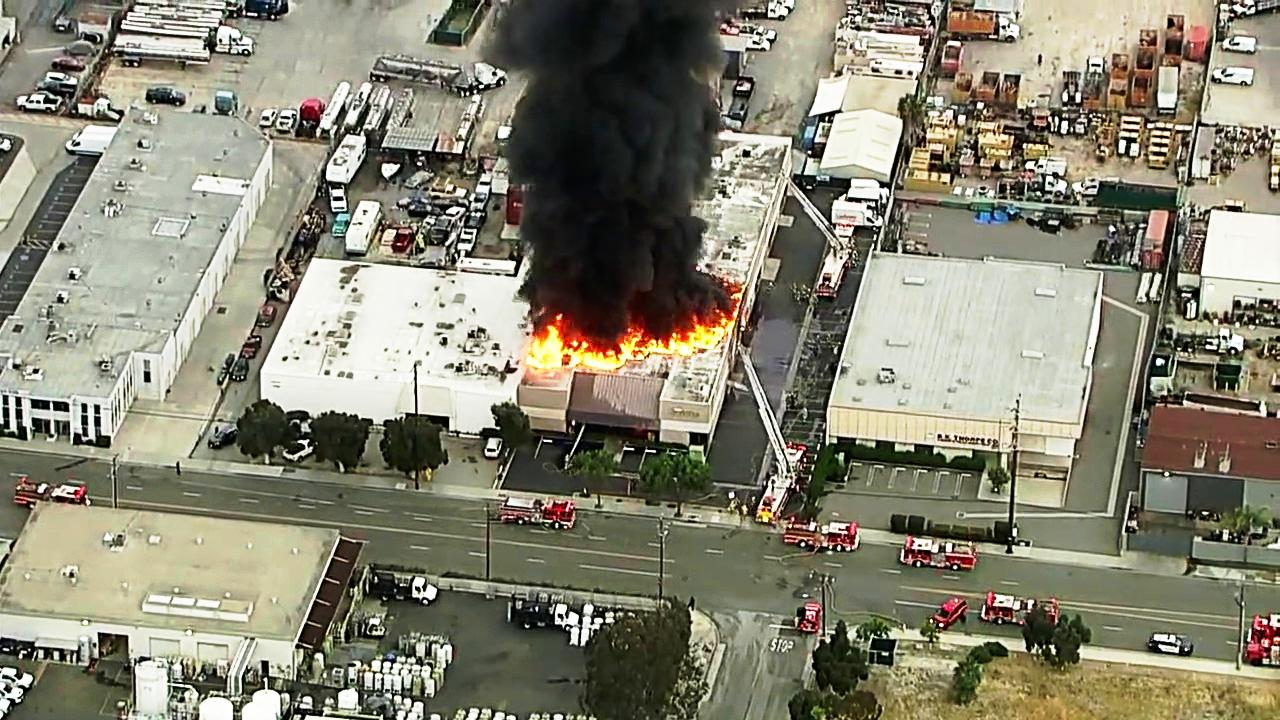fire: (603, 314, 745, 363), (515, 314, 622, 379)
smoke: (555, 0, 688, 313)
